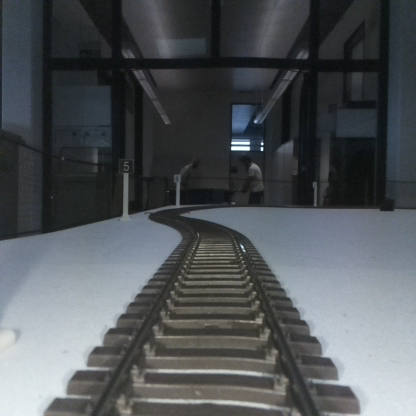black-info-5: (119, 158, 133, 222)
